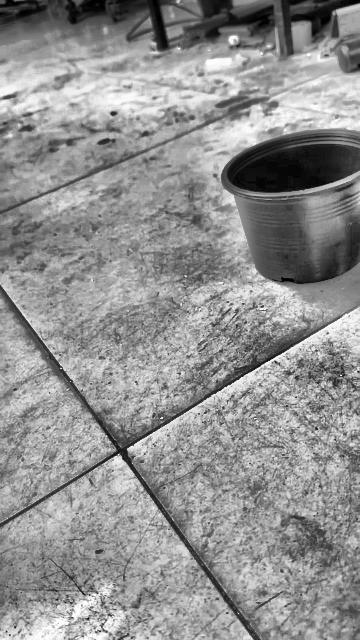pot: (221, 130, 360, 284)
